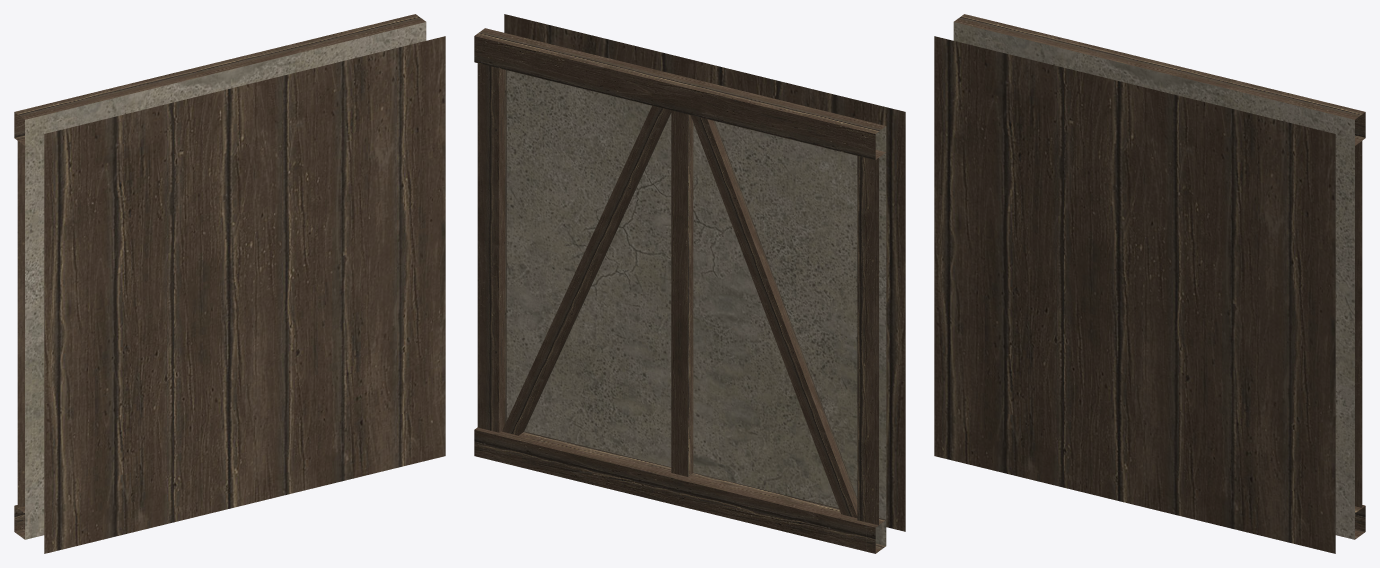
The model's file is ARC1010261.fbx.
The picture shows the model from 3 angles, left to right: view 1: azimuth 30°, elevation 25°; view 2: azimuth 150°, elevation 25°; view 3: azimuth 330°, elevation 25°; orthographic projection.
Visible parts, largest first — view 1: smARC1010261; view 2: smARC1010261; view 3: smARC1010261.
Part boxes in pixels (box(x1,y1,x2,y2)): smARC1010261: box(14, 14, 445, 553); smARC1010261: box(474, 14, 905, 553); smARC1010261: box(934, 14, 1365, 553).
Size of the model in its own units: 268 by 268 by 34.9.
1 material, 1 textured.
